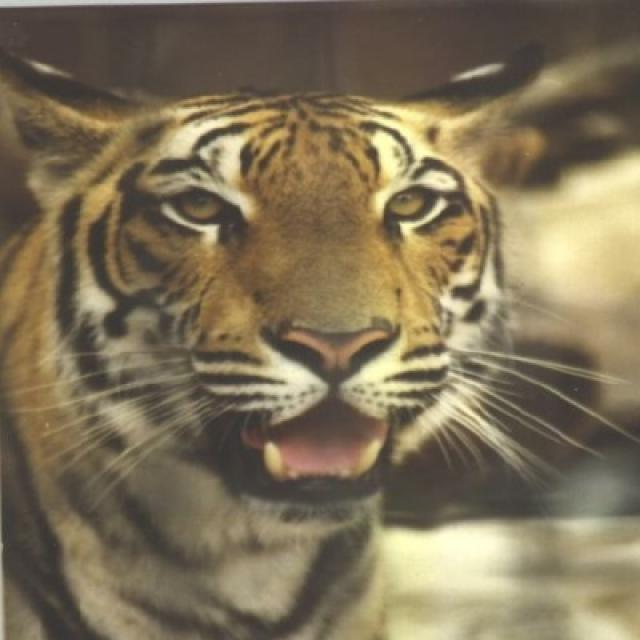Tiger: (0, 50, 544, 638)
